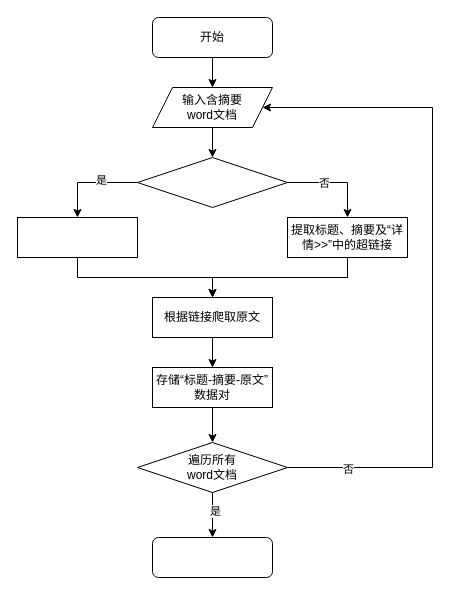
This 458x595 diagram has some shape labels left out. Here are the shapes that lost their labels. From the top down, the centre of each, then its label:
pixel 212 182: 标题含有超链接
pixel 77 237: 提取标题、摘要及标题中的超链接
pixel 212 557: 结束
